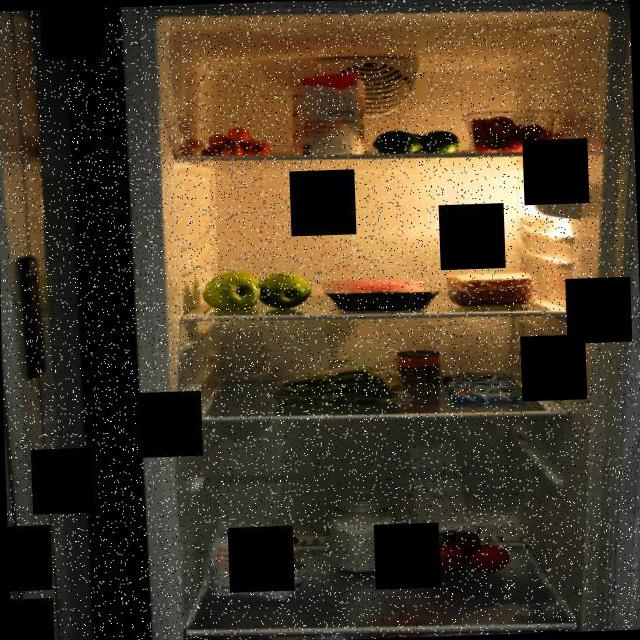Carne vacuno: (320, 274, 442, 314)
Manzana: (198, 262, 320, 314)
Tomate: (396, 518, 512, 580)
Zanahoria: (194, 122, 272, 158)
bread: (446, 266, 536, 308)
chocolate: (440, 370, 520, 406)
corn: (394, 346, 442, 386)
flour: (206, 527, 307, 605)
green_beans: (270, 354, 412, 412)
strawberries: (462, 109, 554, 152)
sugar: (288, 67, 372, 160), (327, 486, 398, 576)
